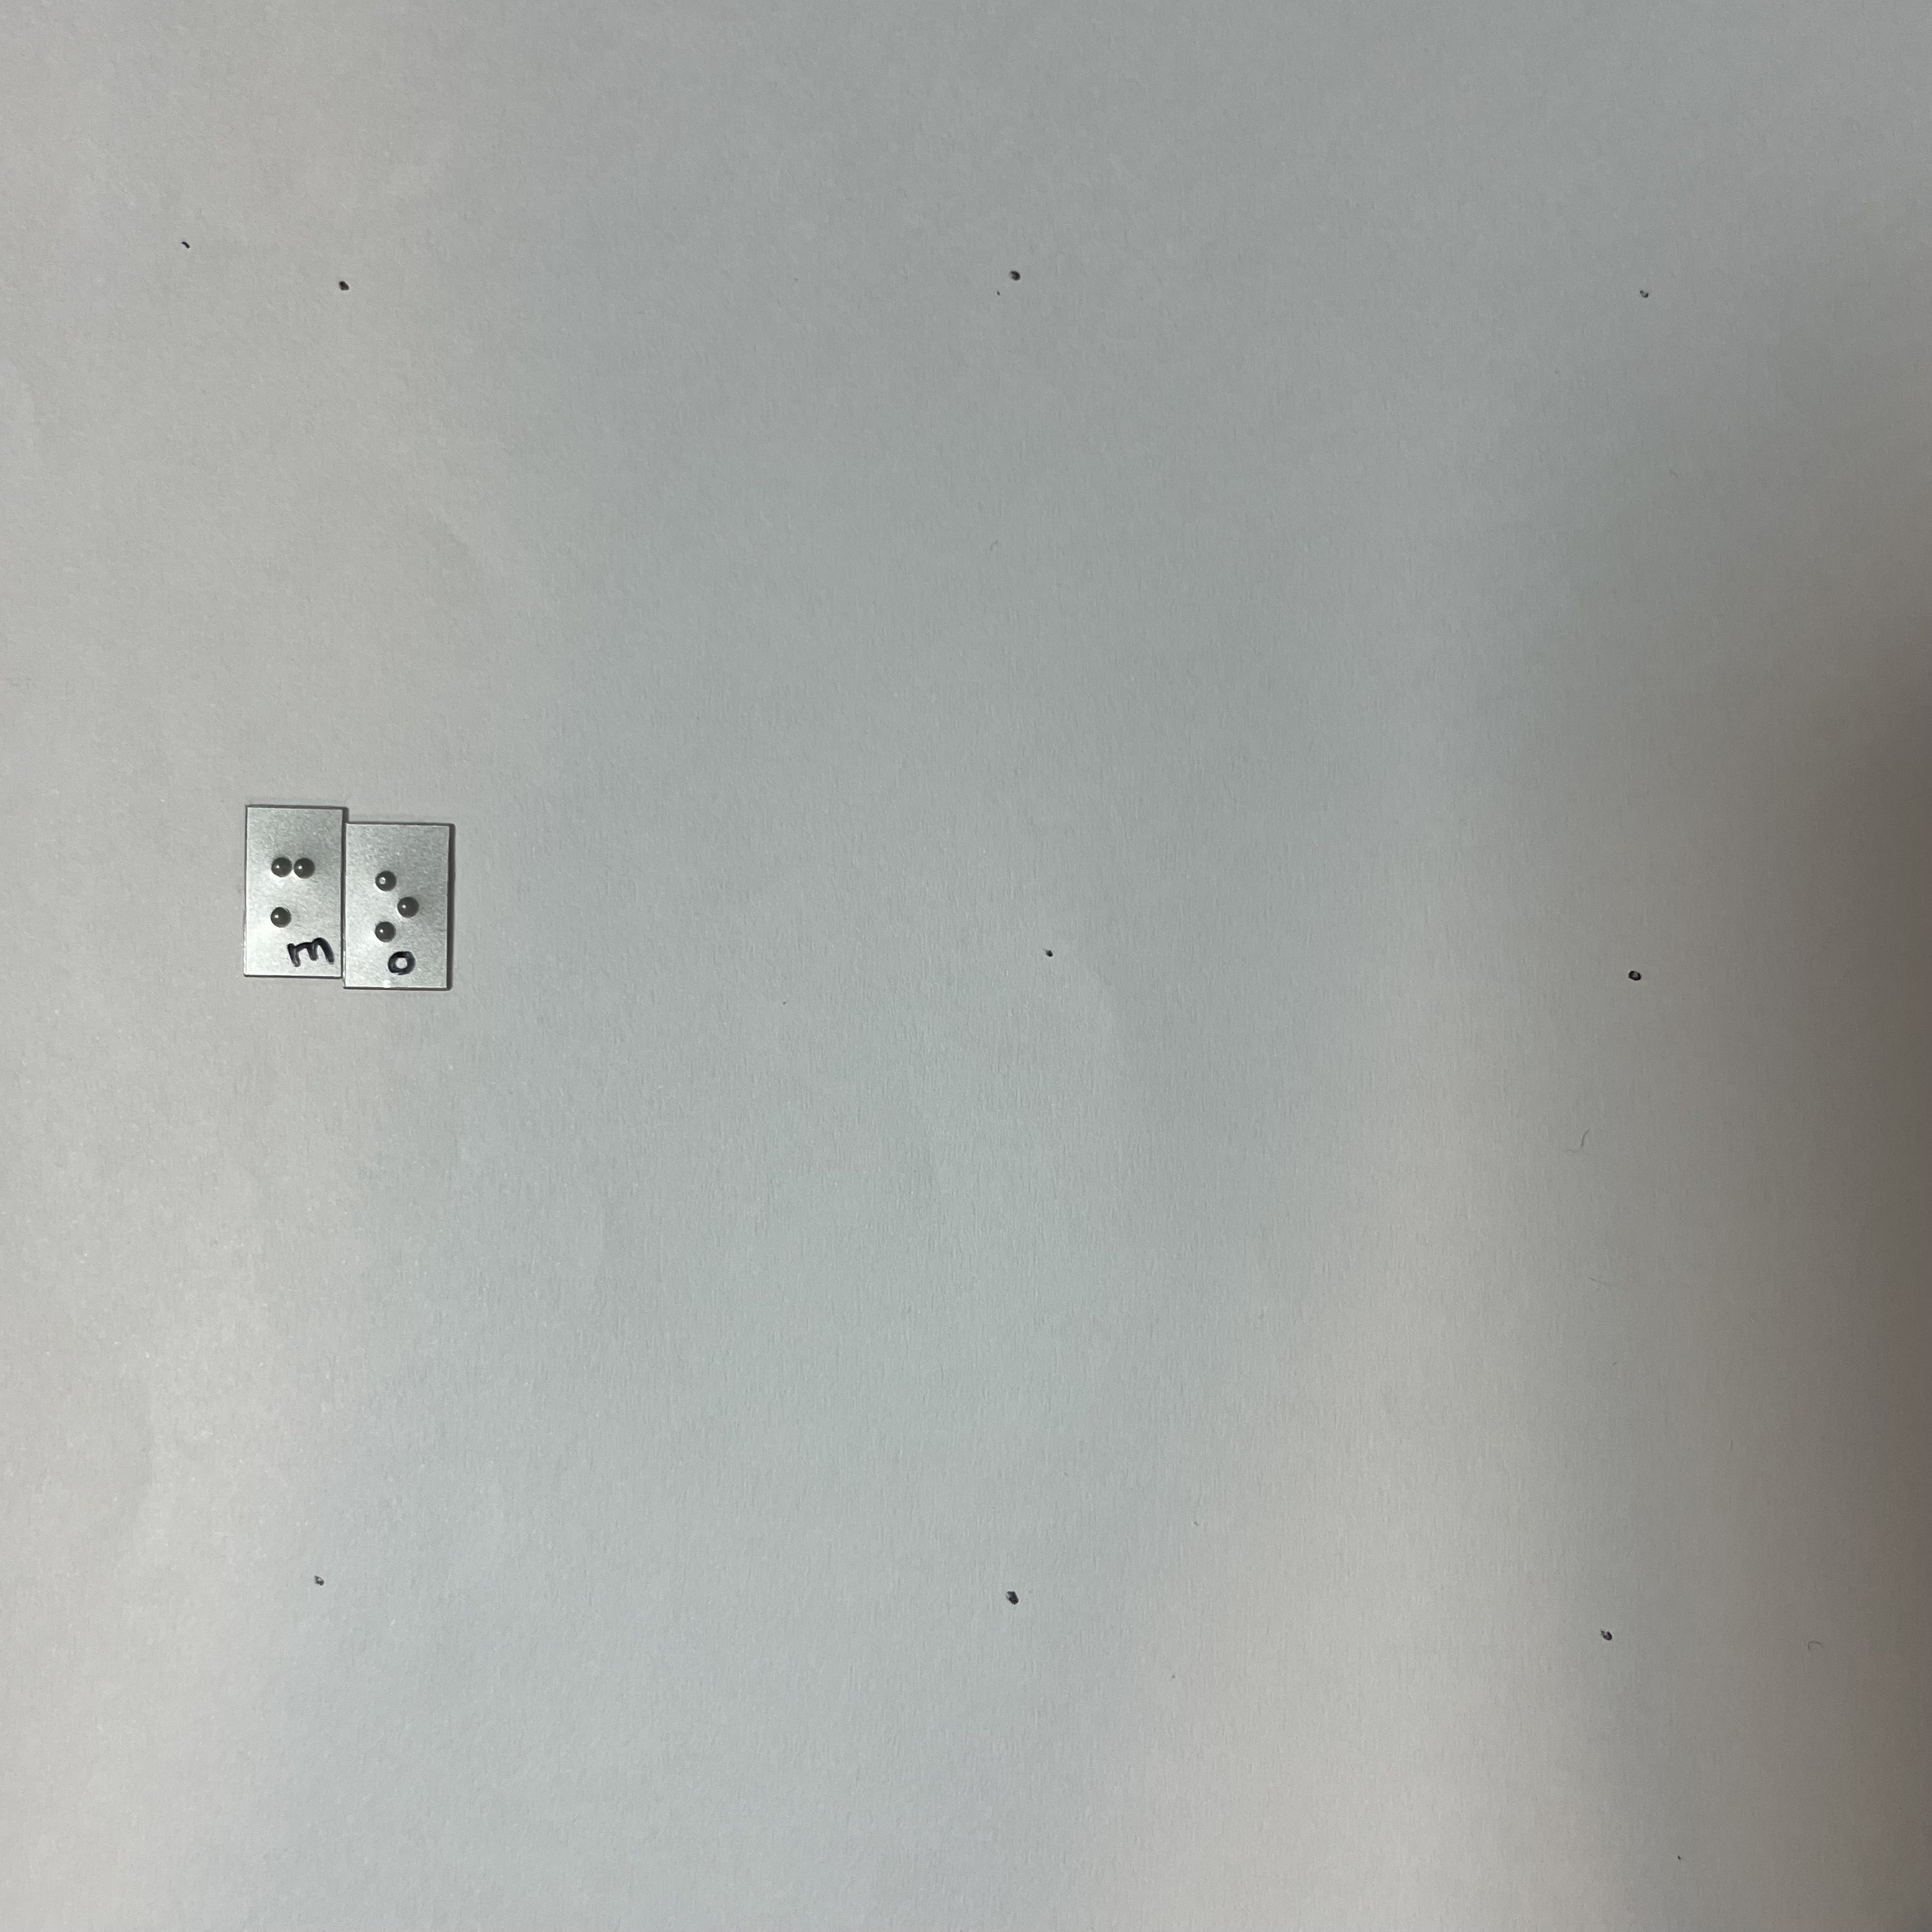m: (267, 846, 320, 930)
o: (364, 859, 425, 947)
